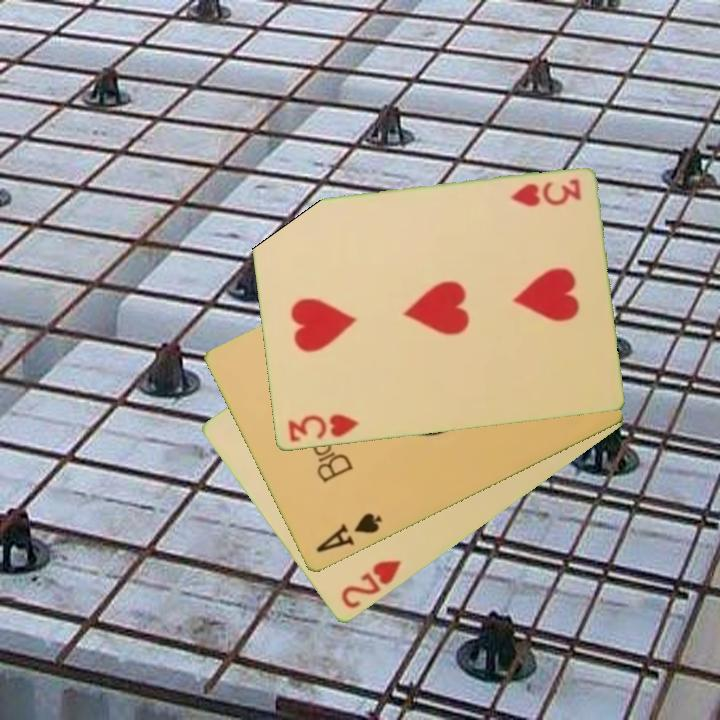2h: (337, 557, 404, 613)
3h: (284, 411, 362, 446), (506, 176, 584, 210)
As: (312, 509, 385, 557)
